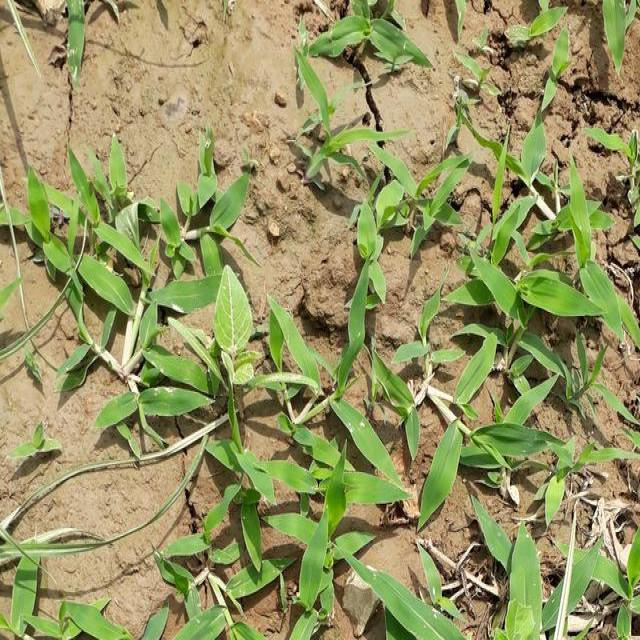weed: (19, 153, 640, 640), (282, 48, 394, 167), (315, 4, 428, 79), (458, 119, 572, 192), (50, 0, 91, 83), (540, 32, 578, 110), (598, 0, 636, 74), (459, 50, 503, 109), (503, 12, 570, 50), (581, 127, 640, 167)
